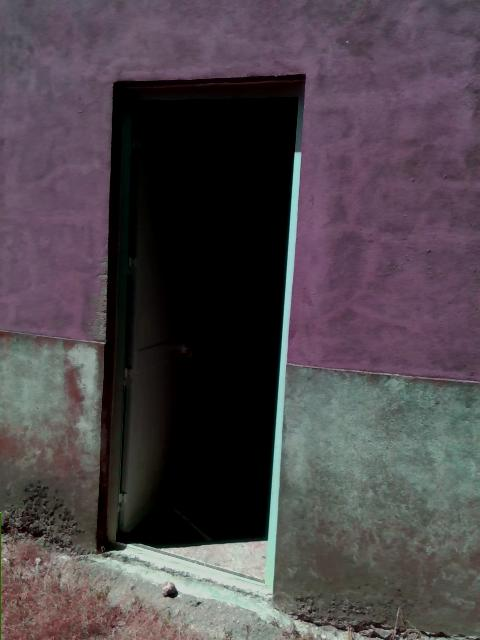open_door: (95, 69, 306, 598)
